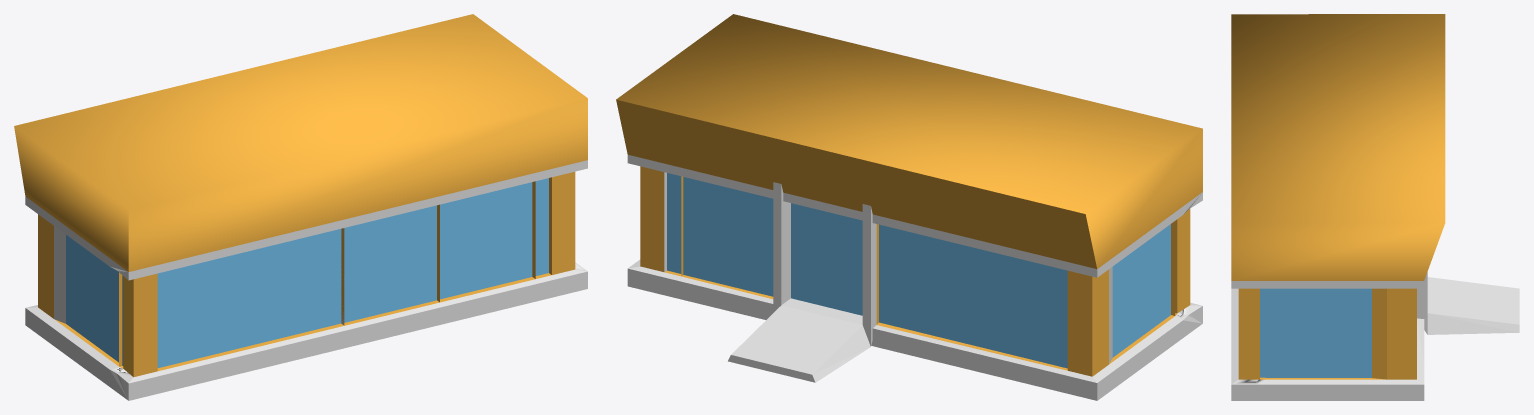
File: Shop5x2x2Orange.fbx
3 renders of one model, left to right at view 1: azimuth 30°, elevation 25°; view 2: azimuth 150°, elevation 25°; view 3: azimuth 270°, elevation 25°, orthographic. The views are drawn at different scales.
Visible parts, largest first — view 1: Shop.002; view 2: Shop.002; view 3: Shop.002.
Part boxes in pixels (left/top/right/bottom): Shop.002: left=14, top=14, right=587, bottom=400; Shop.002: left=616, top=14, right=1202, bottom=400; Shop.002: left=1231, top=14, right=1519, bottom=400.
Bounding box in the file's own units: 4.99 × 1.98 × 2.91.
1 material, 1 textured.
